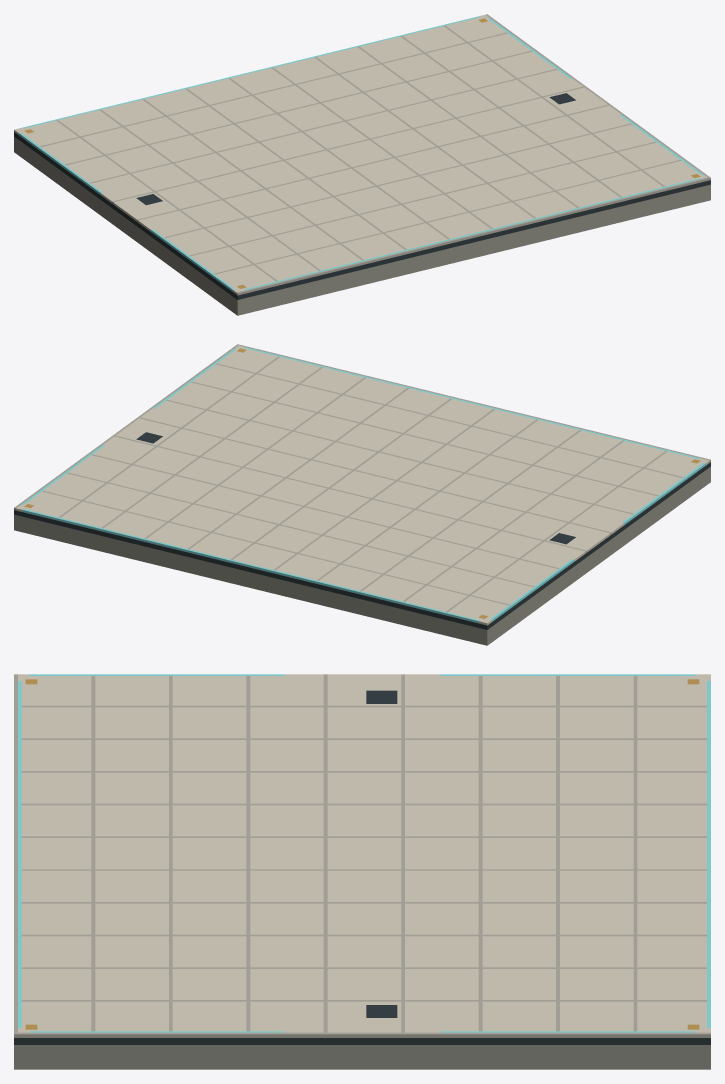
File: BUILT-154.glb
3 views of the same model, one above another, from view 1: azimuth 30°, elevation 25°; view 2: azimuth 150°, elevation 25°; view 3: azimuth 270°, elevation 25° (orthographic). The views are drawn at different scales.
Visible parts, largest first — view 1: 既有22×18m站台显示件; view 2: 既有22×18m站台显示件; view 3: 既有22×18m站台显示件.
Part boxes in pixels (x1,y1,x2,y2): 既有22×18m站台显示件: [14, 14, 710, 315]; 既有22×18m站台显示件: [14, 344, 710, 645]; 既有22×18m站台显示件: [14, 674, 710, 1069].
Bounding box in the file's own units: 22 × 1 × 18.
Materials: 6 (6 with a texture image).
